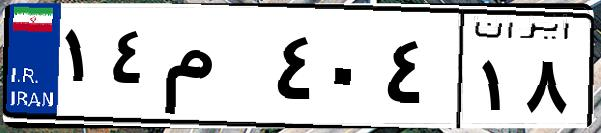0: (330, 28, 385, 110)
1: (57, 26, 110, 100), (475, 38, 525, 113)
4: (270, 28, 330, 110), (385, 28, 445, 110), (110, 28, 158, 98)
8: (525, 38, 570, 115)
م: (158, 20, 270, 120)
